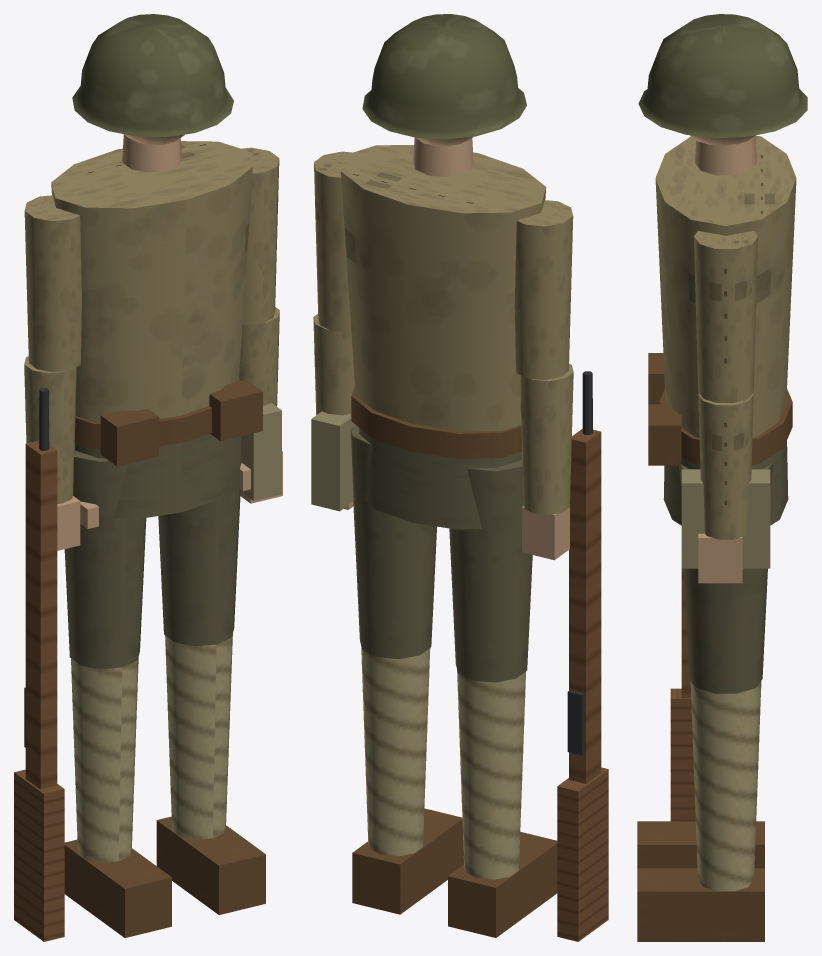
File: infantry-1.glb
3 views of the same model, side by side, from view 1: azimuth 30°, elevation 25°; view 2: azimuth 150°, elevation 25°; view 3: azimuth 270°, elevation 25° (orthographic).
Parts seen in each view (by area): view 1: body, rifle, shin_left, shin_right, head, leg_right, leg_left, arm_right, forearm_right, arm_left, forearm_left; view 2: body, rifle, shin_left, shin_right, head, leg_right, leg_left, arm_right, forearm_right, arm_left, forearm_left; view 3: body, shin_left, head, arm_left, leg_left, forearm_left, rifle, shin_right.
Part boxes in pixels (x1,y1,x2,y2): body: (51, 141, 281, 518); rifle: (14, 388, 64, 941); shin_left: (156, 634, 265, 914); shin_right: (64, 657, 171, 937); head: (72, 14, 233, 172); leg_right: (64, 450, 146, 669); leg_left: (158, 436, 242, 646); arm_right: (24, 195, 81, 372); forearm_right: (24, 356, 98, 550); arm_left: (241, 147, 279, 324); forearm_left: (239, 307, 282, 503); body: (311, 145, 546, 529); rifle: (557, 371, 608, 941); shin_left: (352, 647, 463, 914); shin_right: (448, 670, 557, 937); head: (362, 14, 526, 176); leg_right: (449, 460, 532, 682); leg_left: (350, 424, 436, 659); arm_right: (514, 200, 573, 379); forearm_right: (520, 363, 573, 560); arm_left: (314, 151, 352, 331); forearm_left: (313, 314, 354, 509); body: (648, 135, 796, 568); shin_left: (637, 681, 764, 941); head: (638, 14, 807, 175); arm_left: (694, 231, 758, 402); leg_left: (679, 463, 772, 693); forearm_left: (698, 393, 753, 583); rifle: (670, 568, 695, 821); shin_right: (637, 821, 764, 868).
Size of the model in its own units: 0.5496 by 1.75 by 0.3073.
7 materials, 7 textured.
